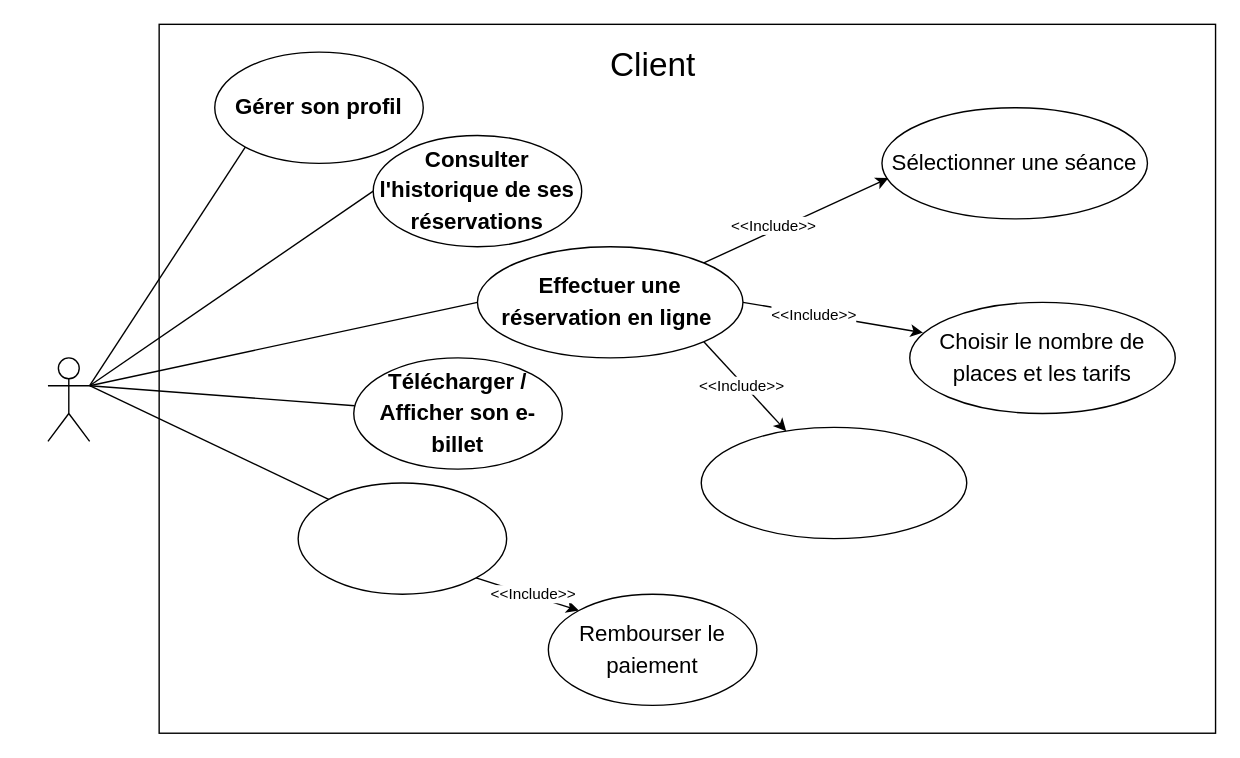
Some shapes in this 1240 by 758 pixel diagram are drawn without their labels. The shapes that lost their labels are listed below. From the top down, each one's box as (x1, y1, x2, y2) in pixels, then its label:
(47, 357, 90, 441): Client (Authentifié)
(700, 426, 967, 539): Payer la réservation en ligne .
(297, 482, 507, 594): Annuler une réservation
